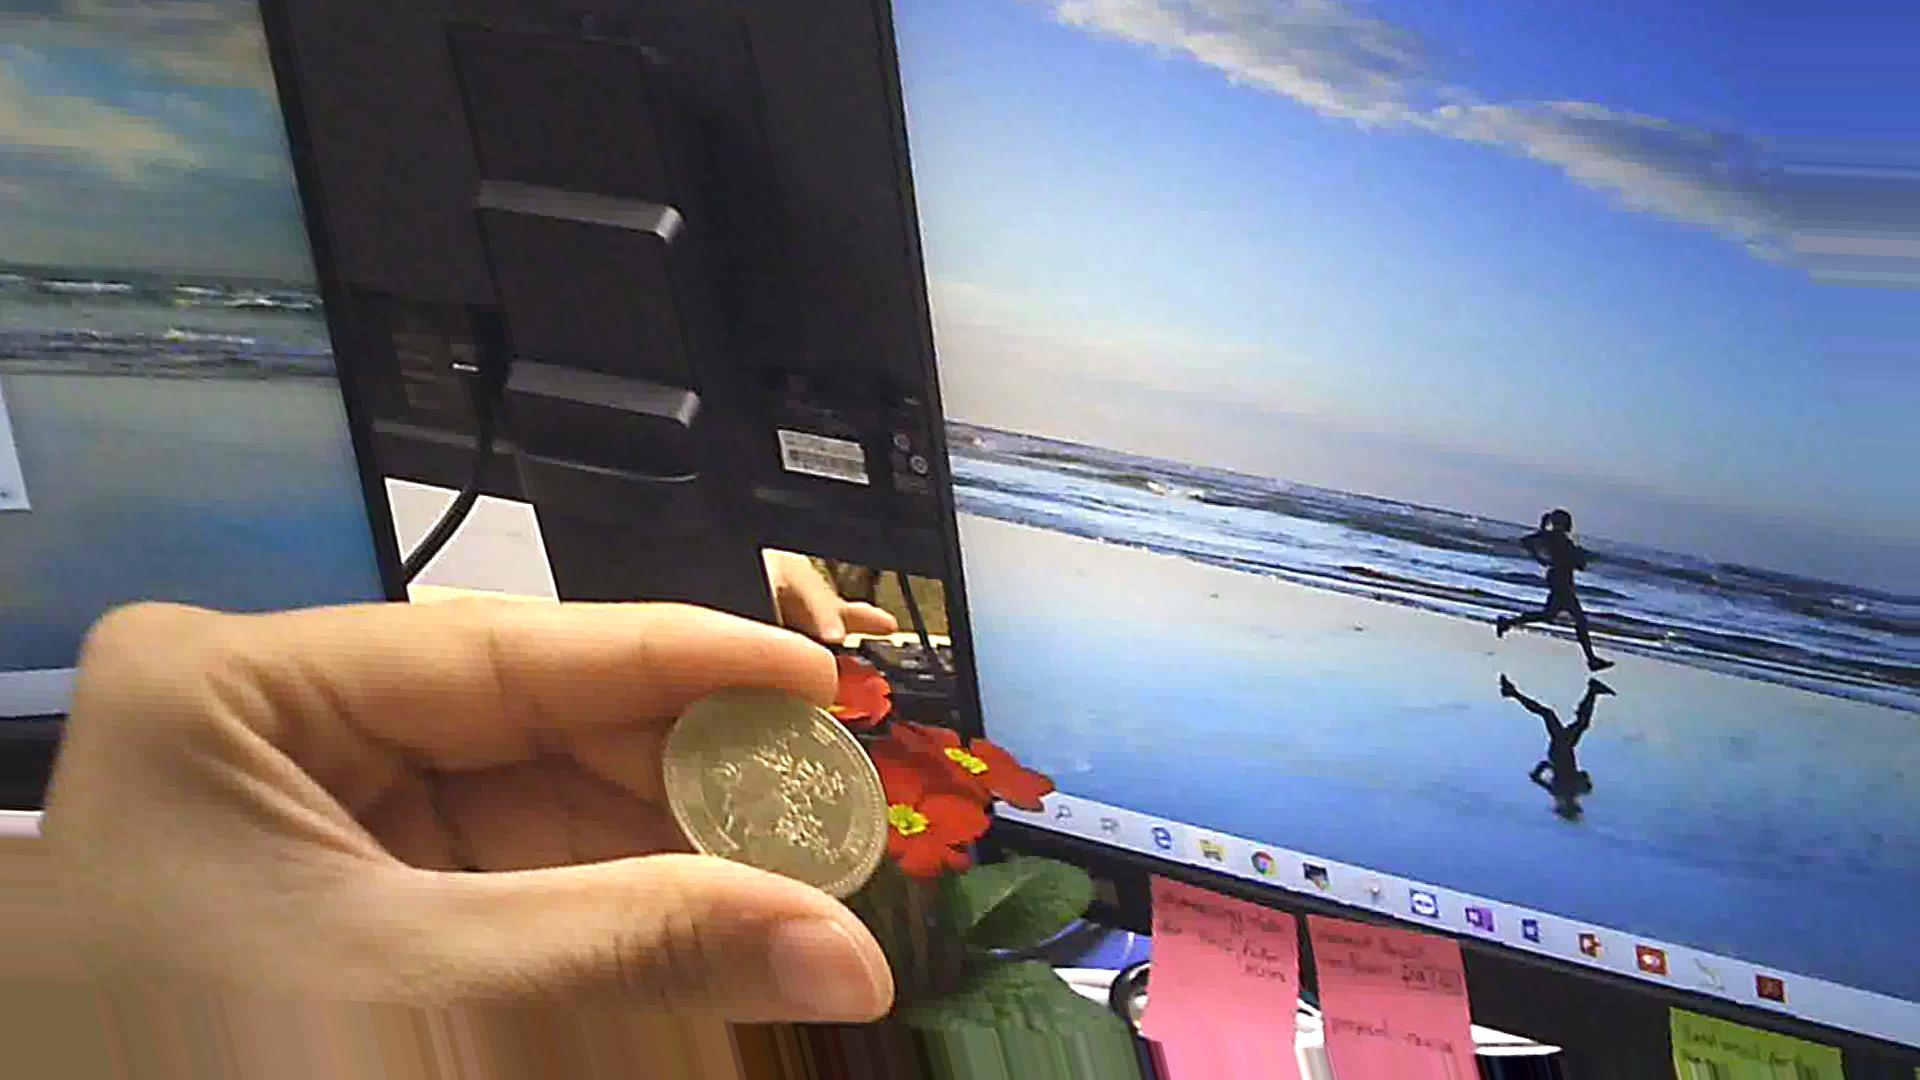500 Yen: (670, 671, 906, 906)
